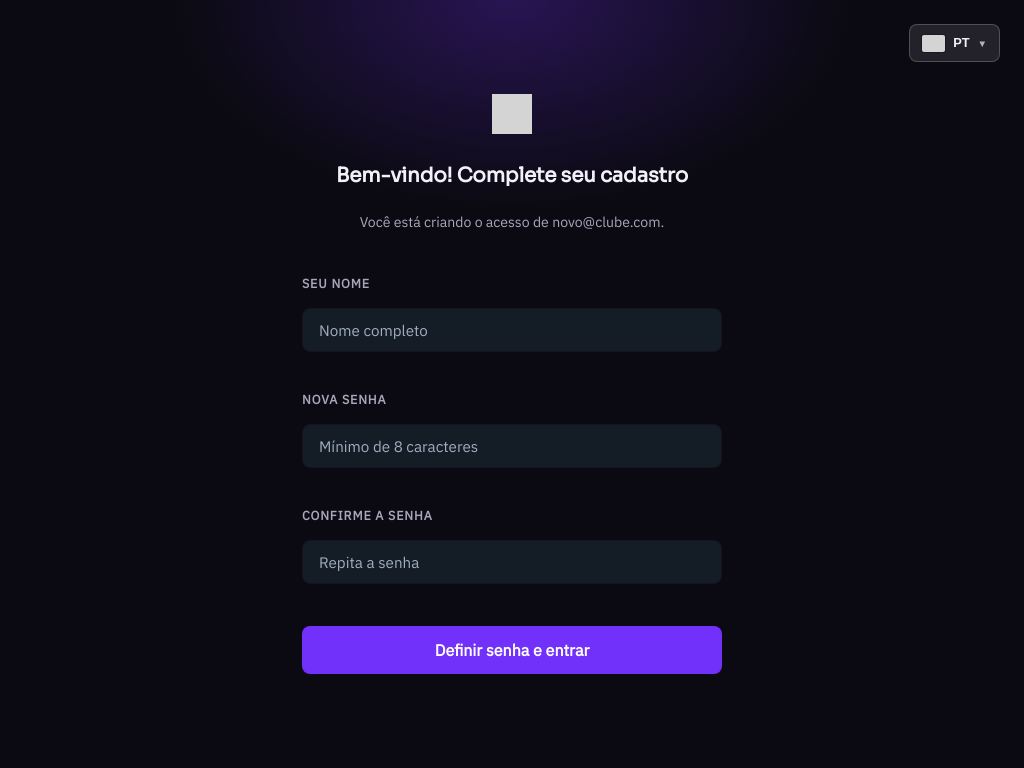
Test: erros do servidor traduzidos › "diferente da senha anterior" explica que o cadastro já deu certo
Type "Ana" into the field labelled "Seu nome" at (512, 330), box top-left (302, 308), bottom-right (722, 352)
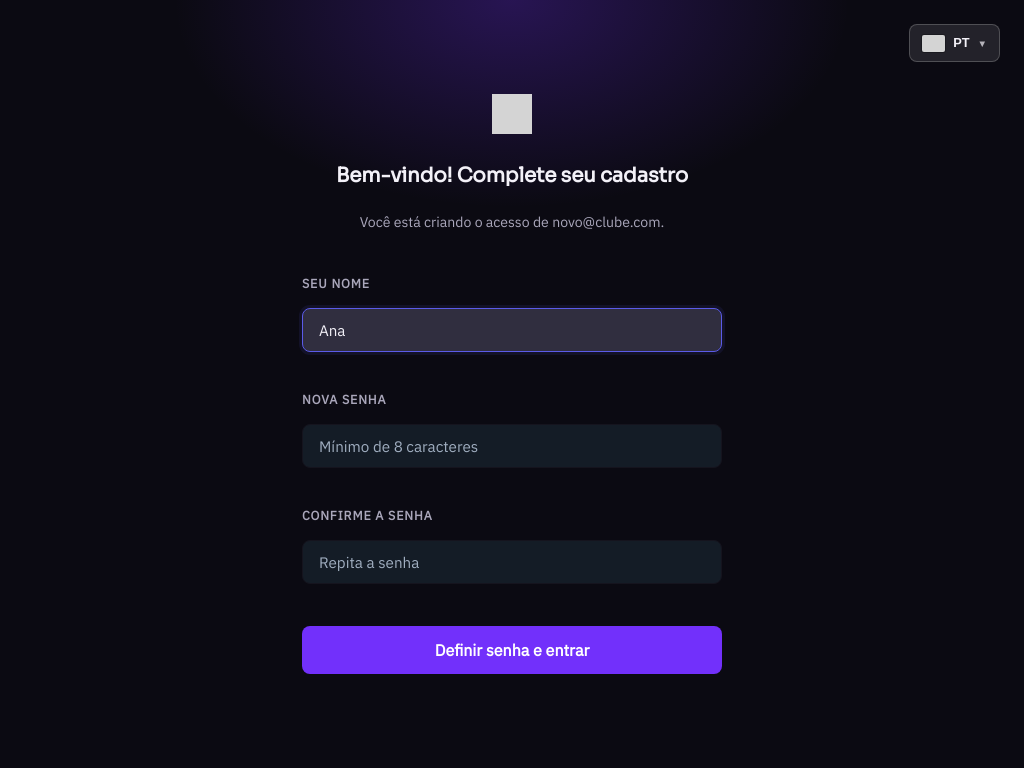
Type "senhaforte1" into the password field labelled "Nova senha" at (512, 446), box top-left (302, 424), bottom-right (722, 468)
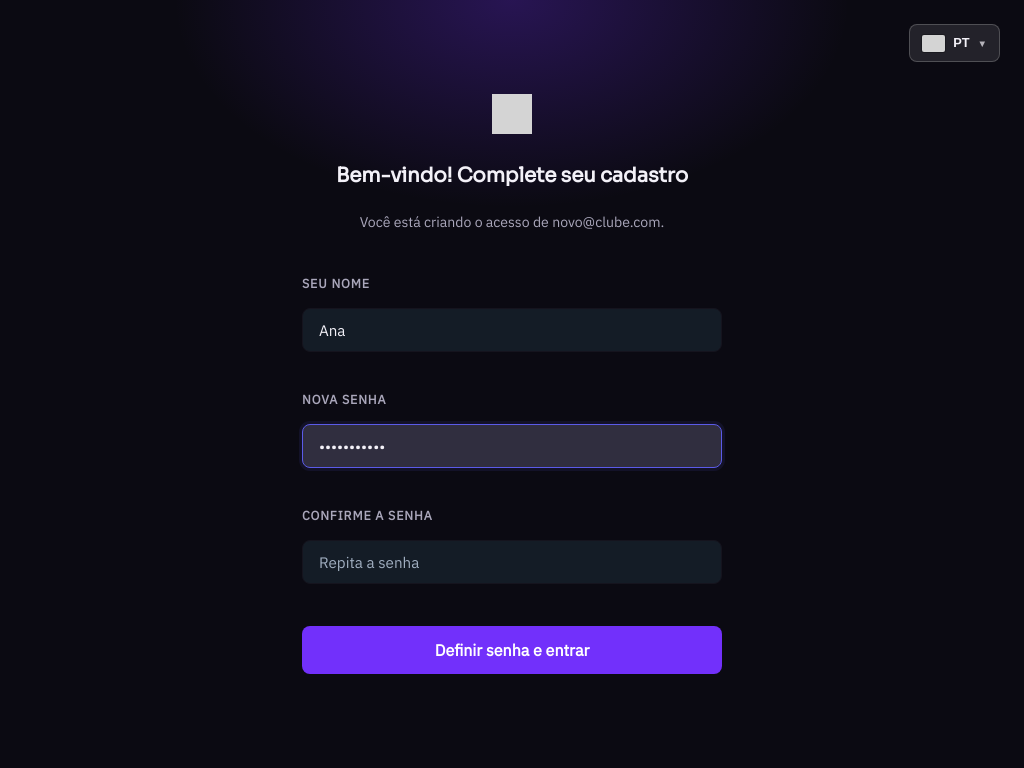
Type "senhaforte1" into the password field labelled "Confirme a senha" at (512, 562), box top-left (302, 540), bottom-right (722, 584)
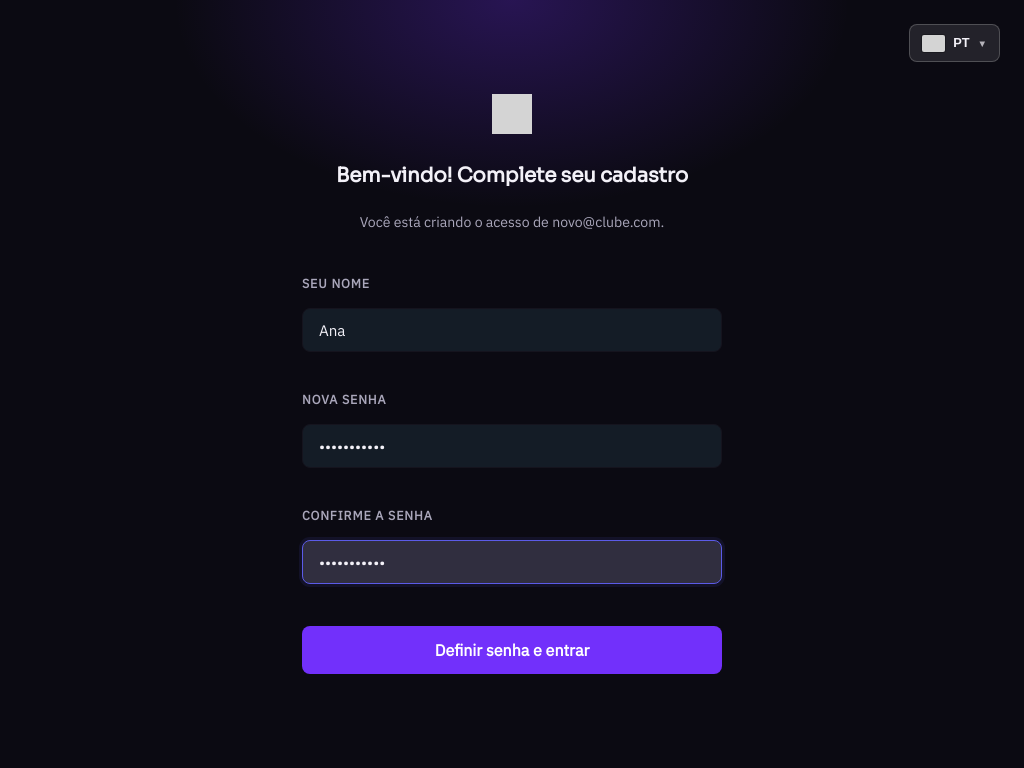
Click the submit button at (512, 650), box top-left (302, 626), bottom-right (722, 674)
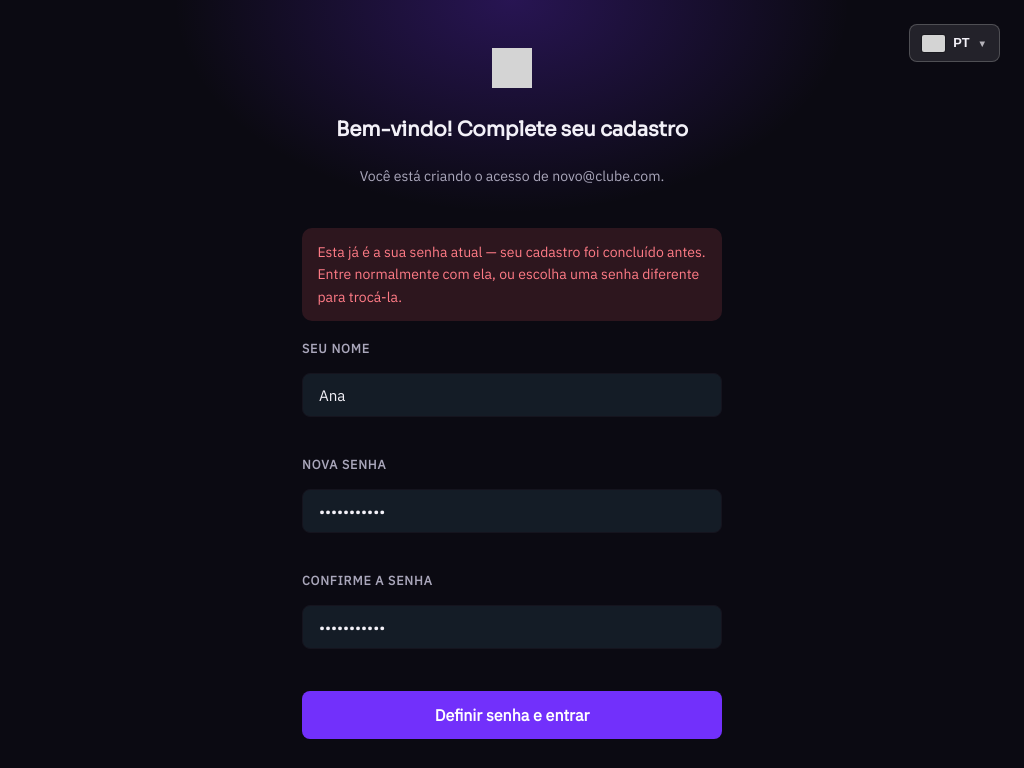
Now the text "já é a sua senha atual" is shown, box top-left (317, 243), bottom-right (706, 306)
